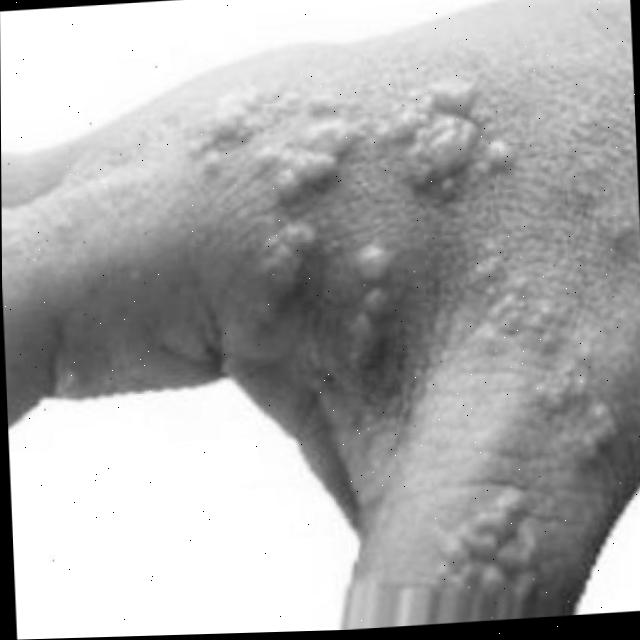Shingles: (178, 50, 631, 486), (440, 473, 543, 582)
